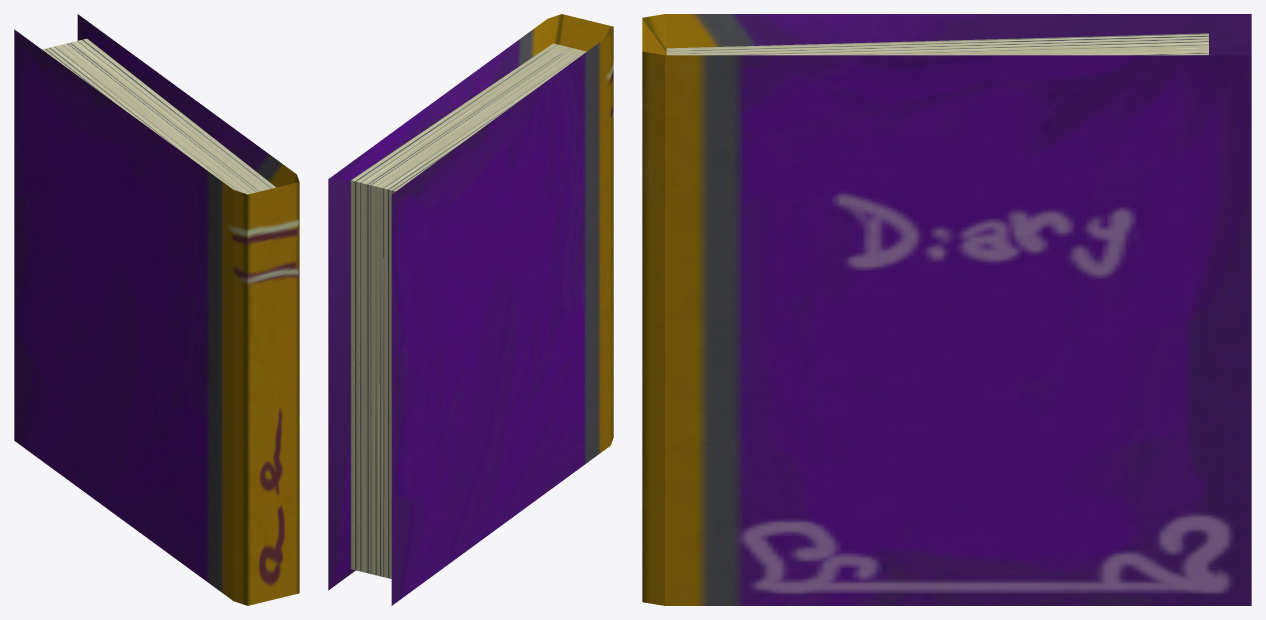
File: e_asset_book_diary.fbx
The picture shows the model from 3 angles, left to right: view 1: azimuth 30°, elevation 25°; view 2: azimuth 150°, elevation 25°; view 3: azimuth 270°, elevation 25°; orthographic projection. The views are drawn at different scales.
Parts seen in each view (by area): view 1: pCube129; view 2: pCube129; view 3: pCube129.
Boxes of the visible parts, x1,y1,x2,y2 form: pCube129: (14,14,299,605); pCube129: (328,14,613,605); pCube129: (642,14,1251,605).
Bounding box in the file's own units: 0.0333 × 0.2072 × 0.2077.
